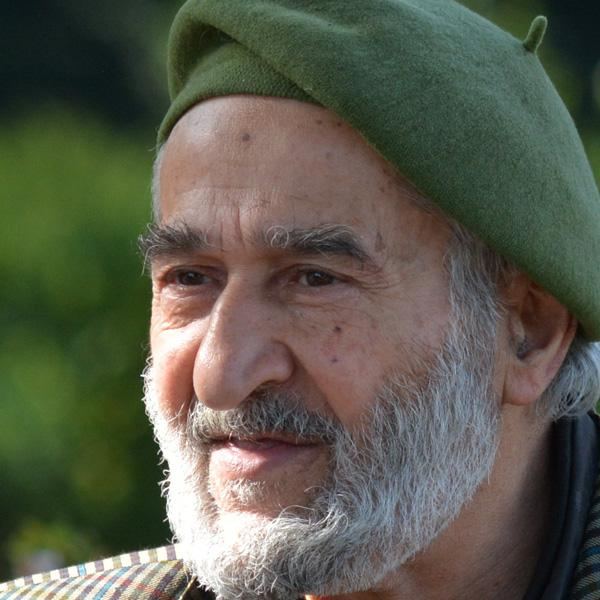Eyes: (266, 255, 362, 308), (152, 254, 231, 305)
